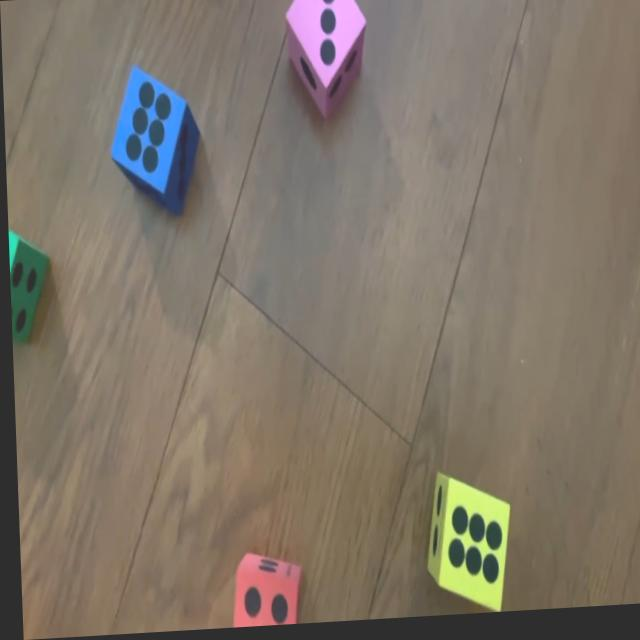blue_block: (106, 65, 200, 213)
red_block: (224, 554, 302, 630)
